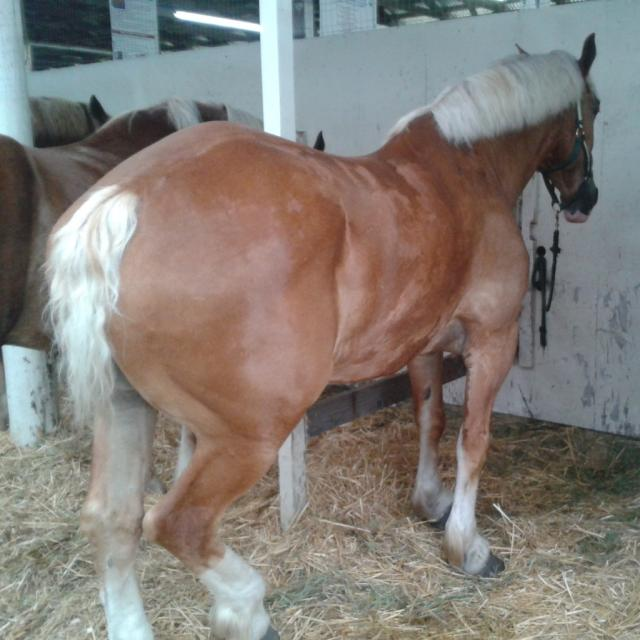Horse: (0, 32, 600, 640)
